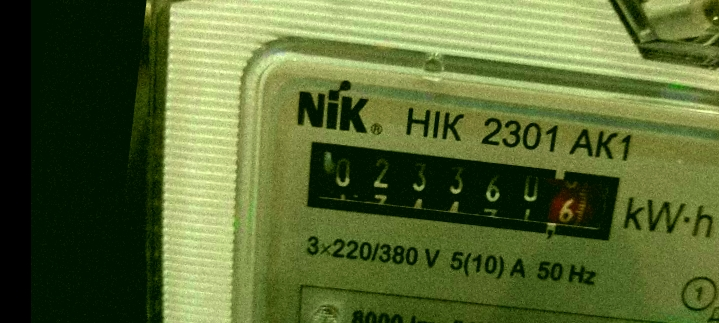0: (330, 153, 355, 189), (521, 171, 541, 204)
2: (368, 155, 395, 191)
3: (406, 159, 431, 193), (445, 162, 468, 195)
6: (481, 169, 504, 204), (554, 193, 578, 224)
screen: (284, 122, 635, 258)
